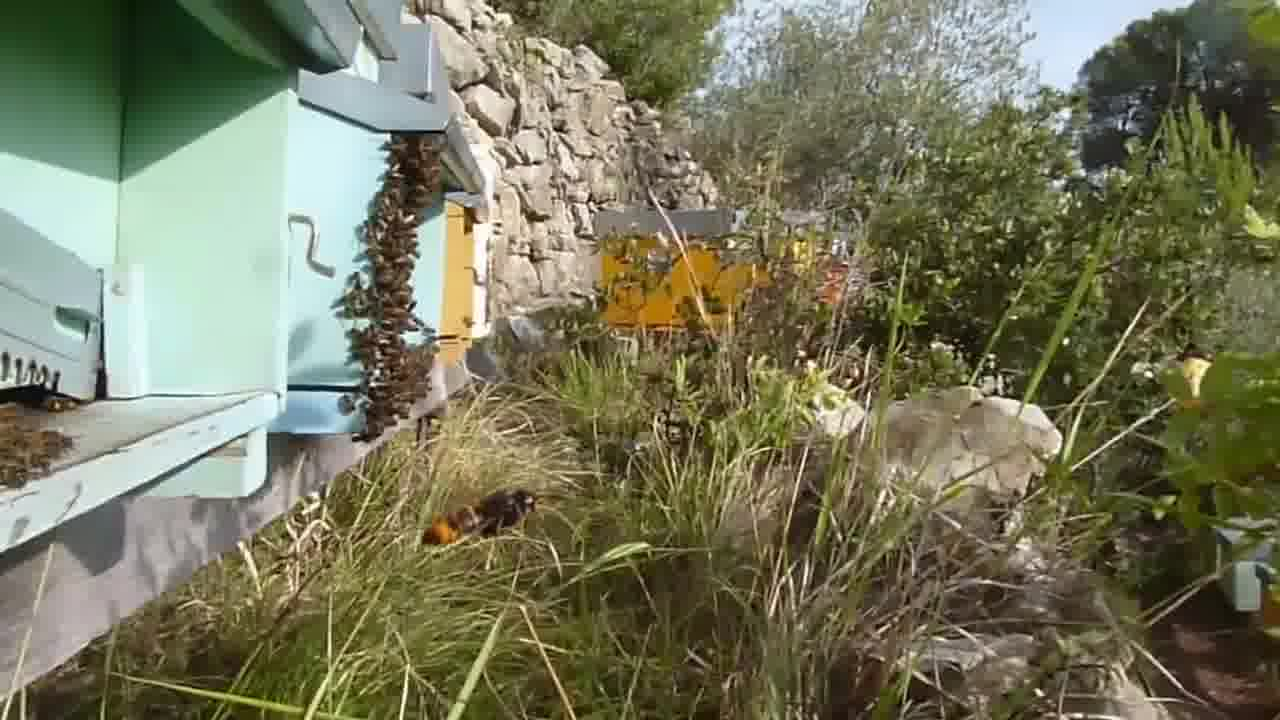bee: (357, 338, 432, 441), (8, 412, 82, 494), (344, 267, 422, 342), (367, 128, 445, 194), (359, 197, 425, 264)
hornet: (424, 470, 546, 557)
